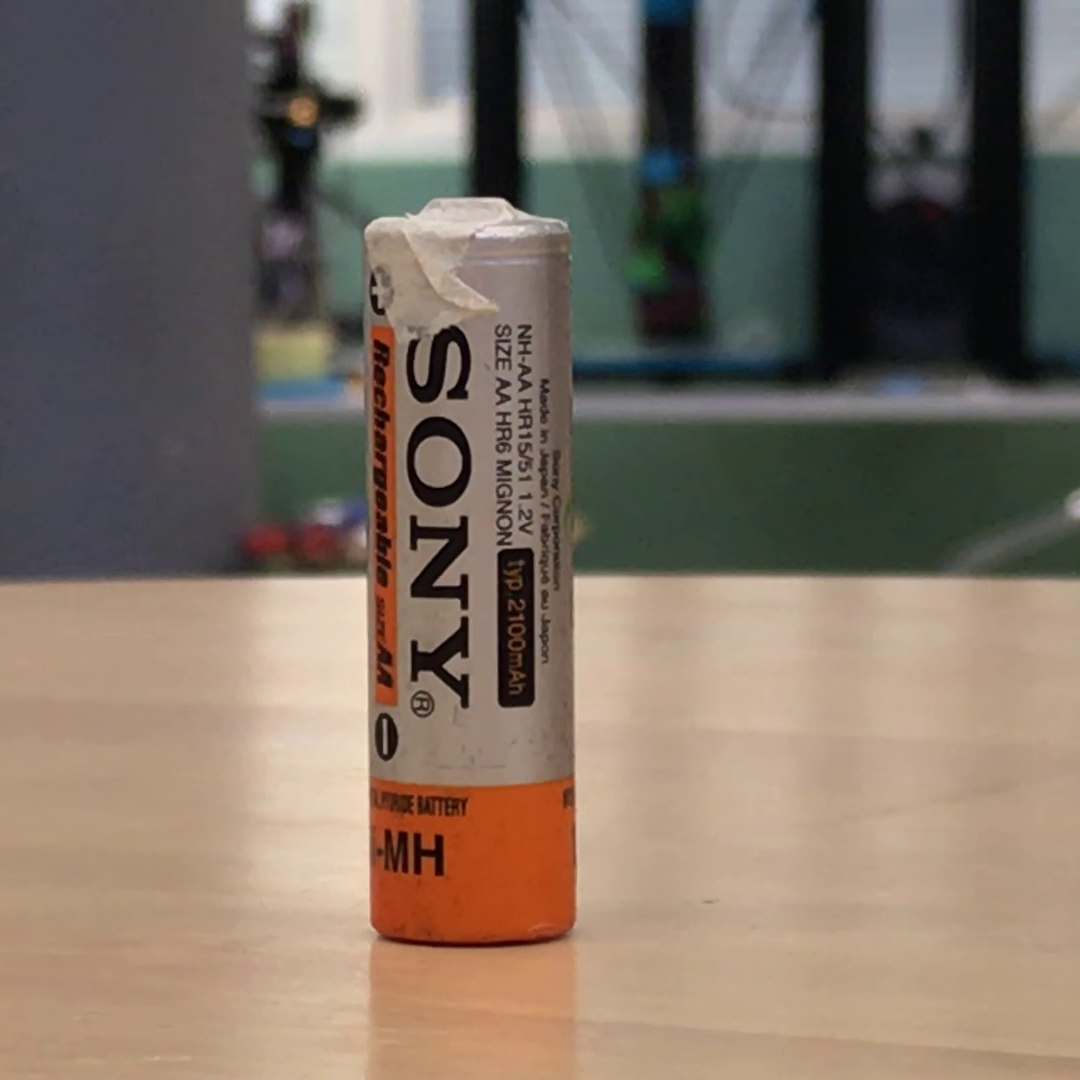keyword: (486, 401, 522, 464)
